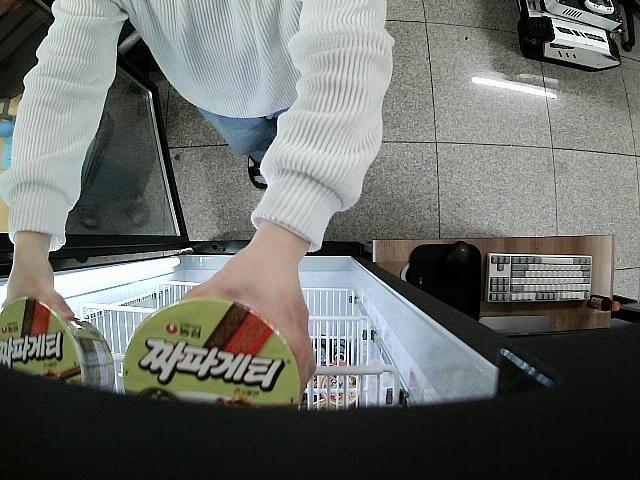03_chapagetti_L: (123, 299, 302, 412), (0, 297, 114, 394)
